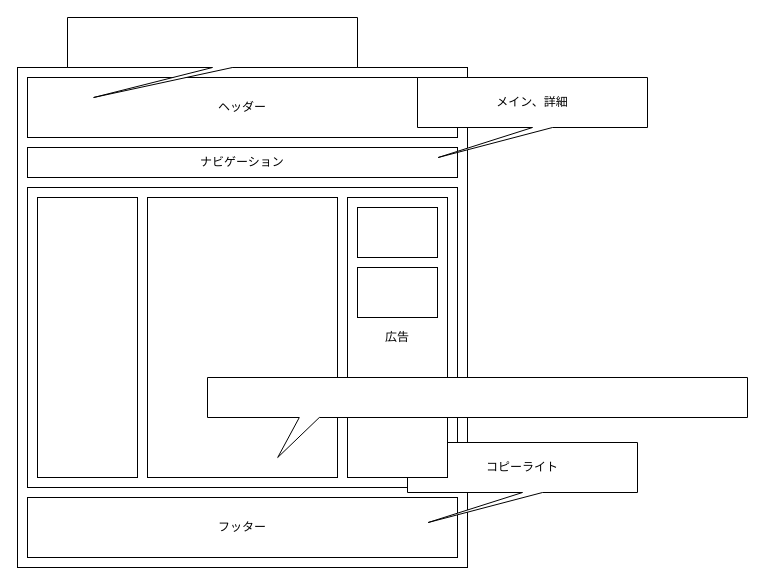
The diagram is 765 pixels wide and 585 high, and some of its shapes have lost their labels. Here are the shapes that lost their labels. From the top down, the centre of each, then its label:
At (212,57): "ロゴ(メインへのリンク)＋サイト名称 リンクだとわからないようにしてください。".
At (242,337): "記事１ 記事２ 記事３ 記事４ 記事５".
At (477,417): "ダミーデータを用意（記事５つ分）".
